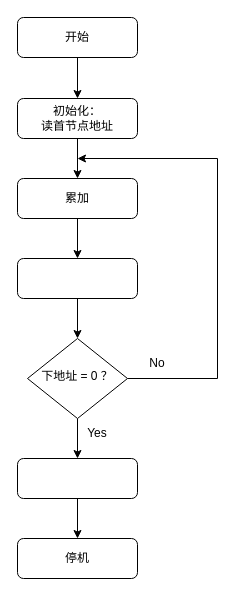
Some shapes in this 243 by 596 pixel diagram are drawn without their labels. The shapes that lost their labels are listed below. From the top down, each one's centre as x and y in pixels, then its label:
[77,278]: 取下地址
[77,478]: 存累加结果
